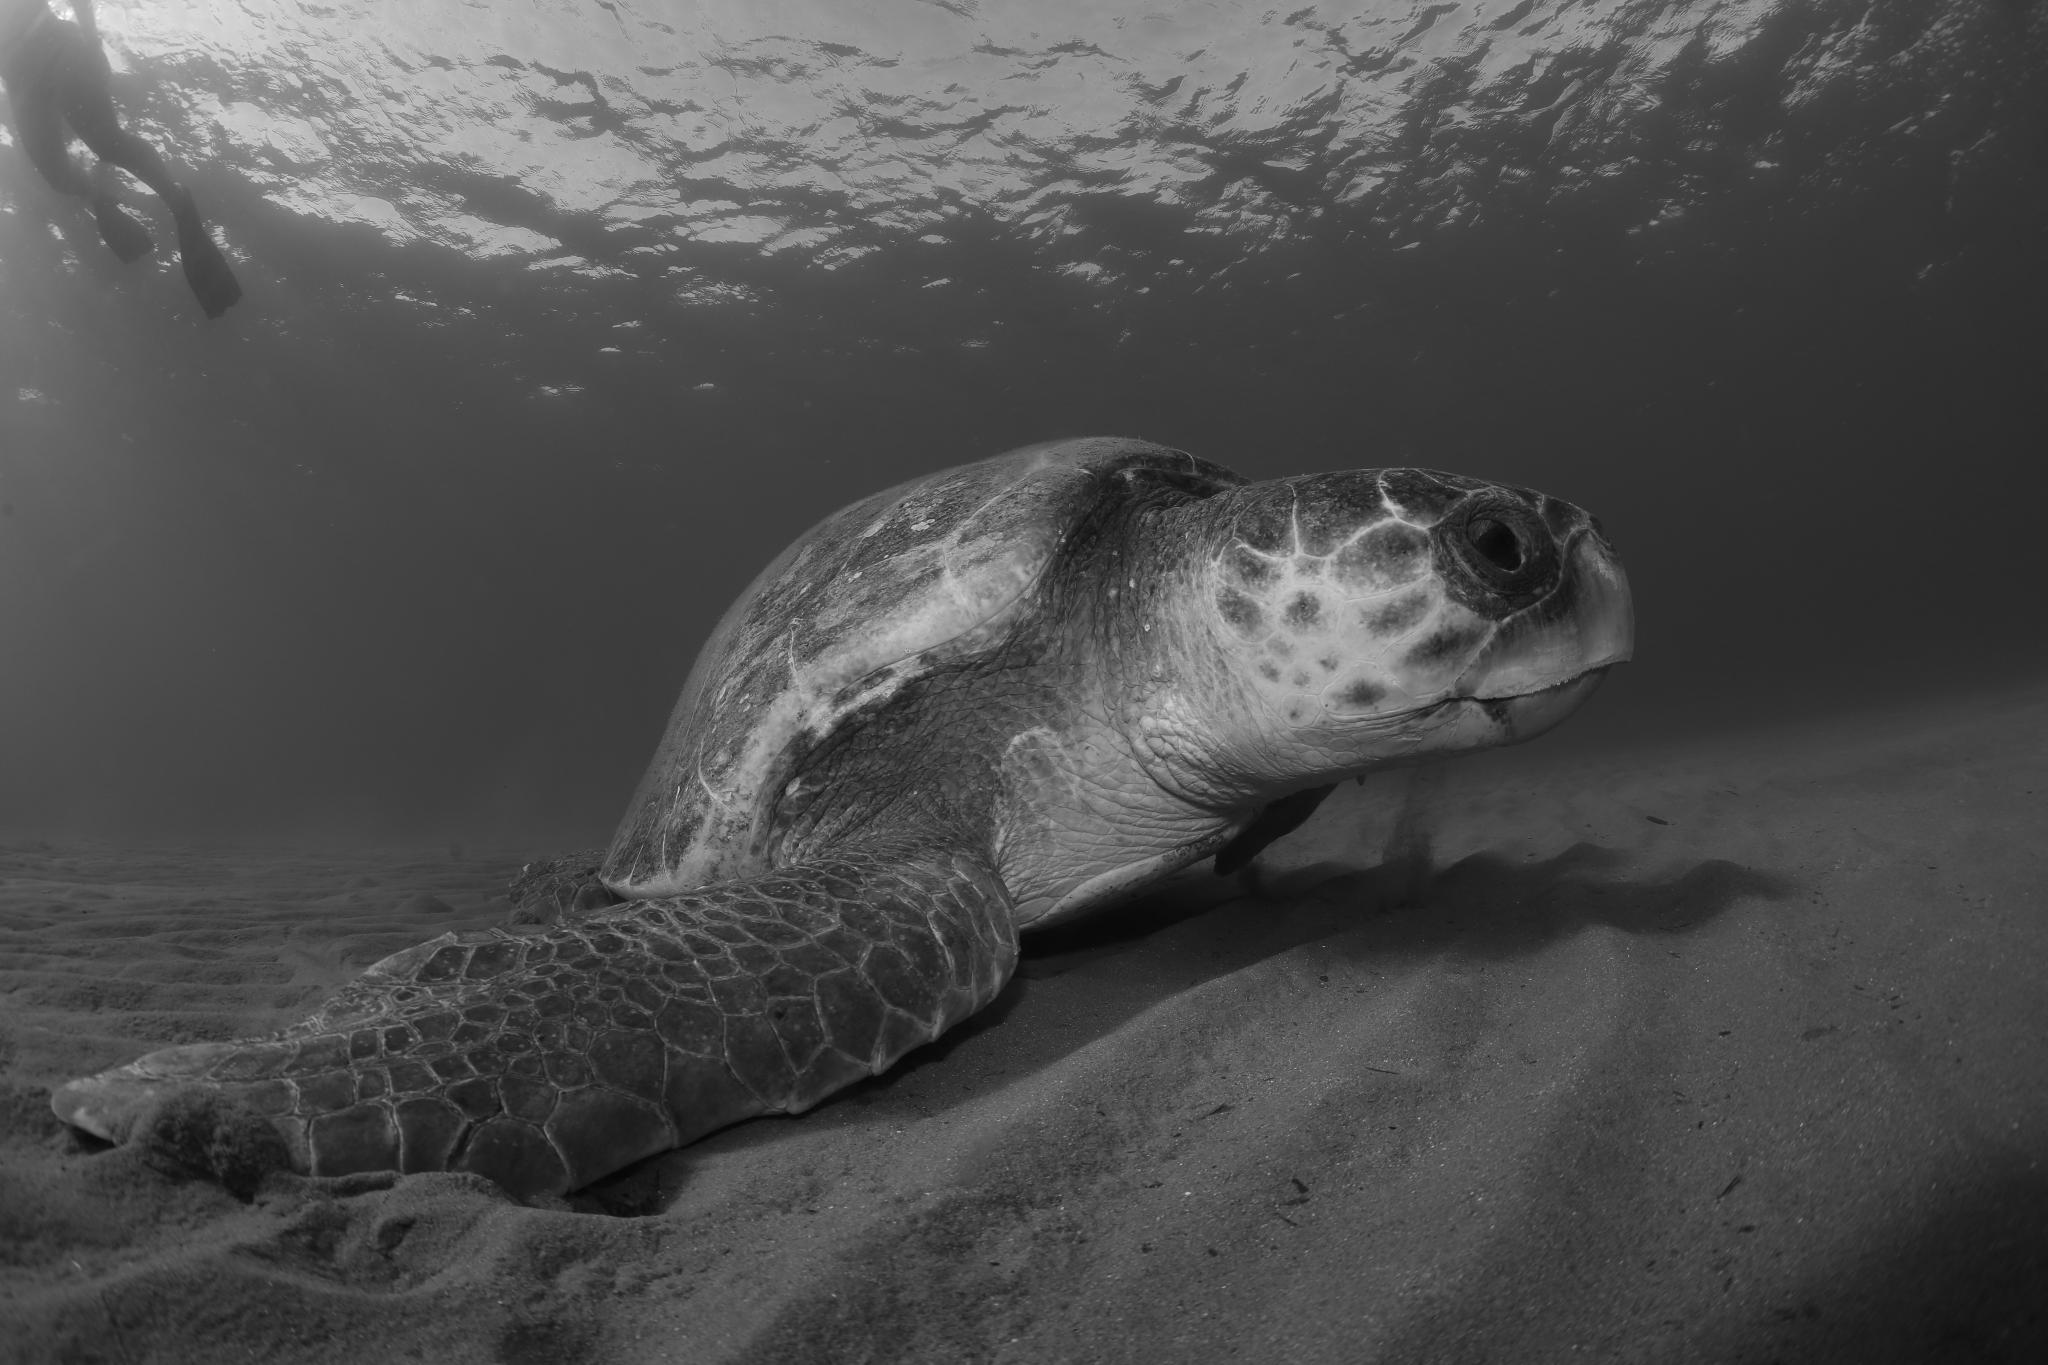Head: (1134, 469, 1633, 808)
